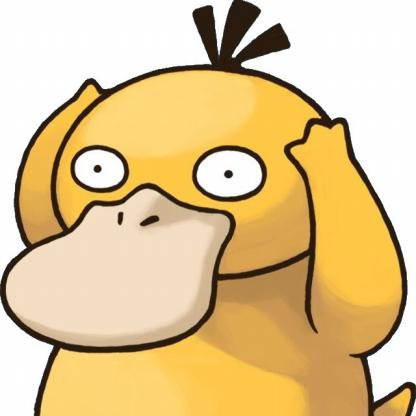Psyduck: (5, 1, 416, 416)
